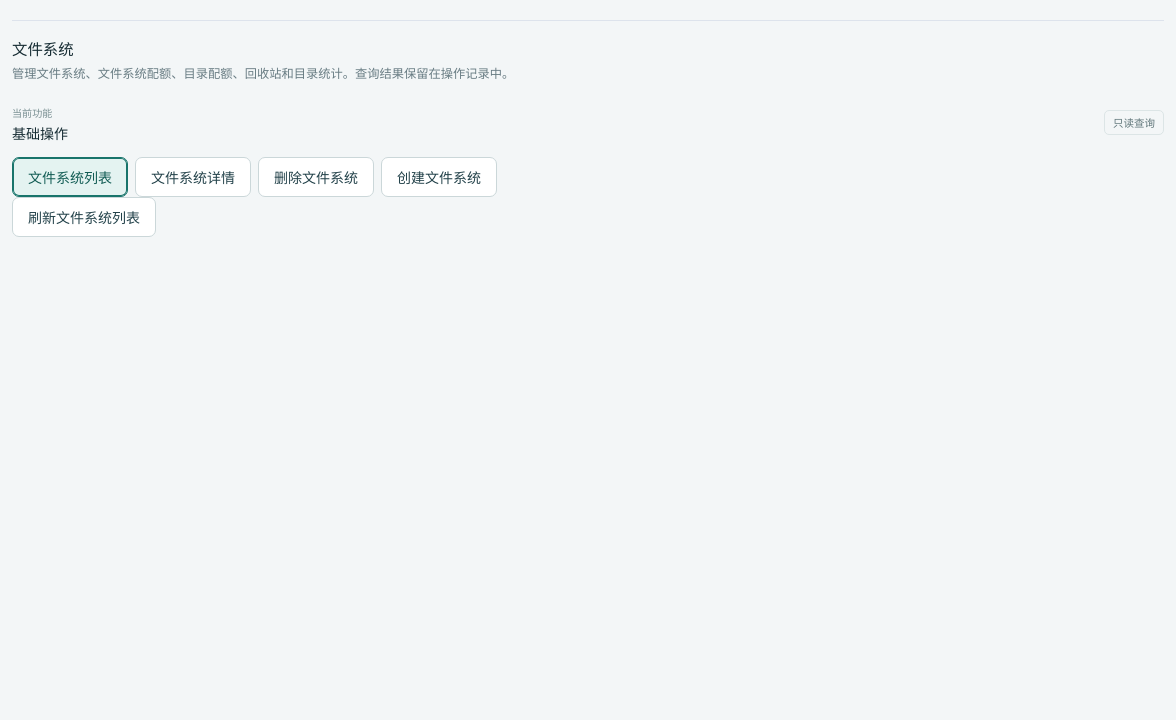
Test: create retains free text and reuses the entry list
Click the button "创建文件系统": (439, 177) [381,157,497,197]
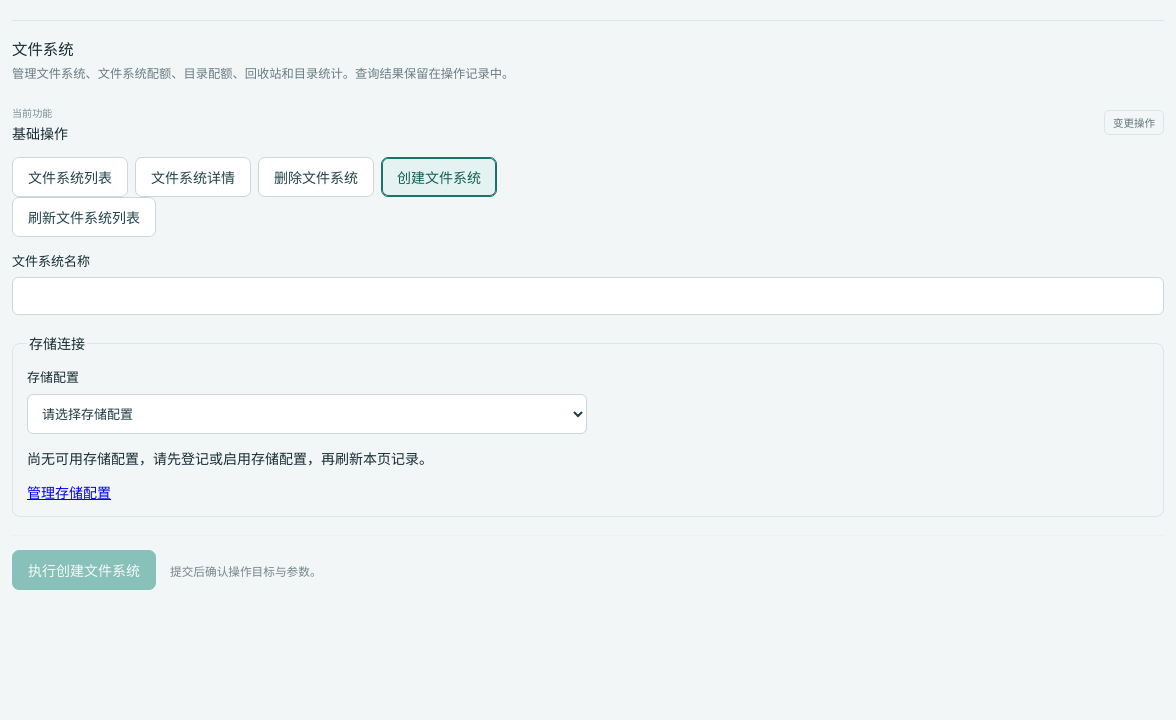
Expected: the field labelled "文件系统名称" is shown, [12,277,1164,315]
